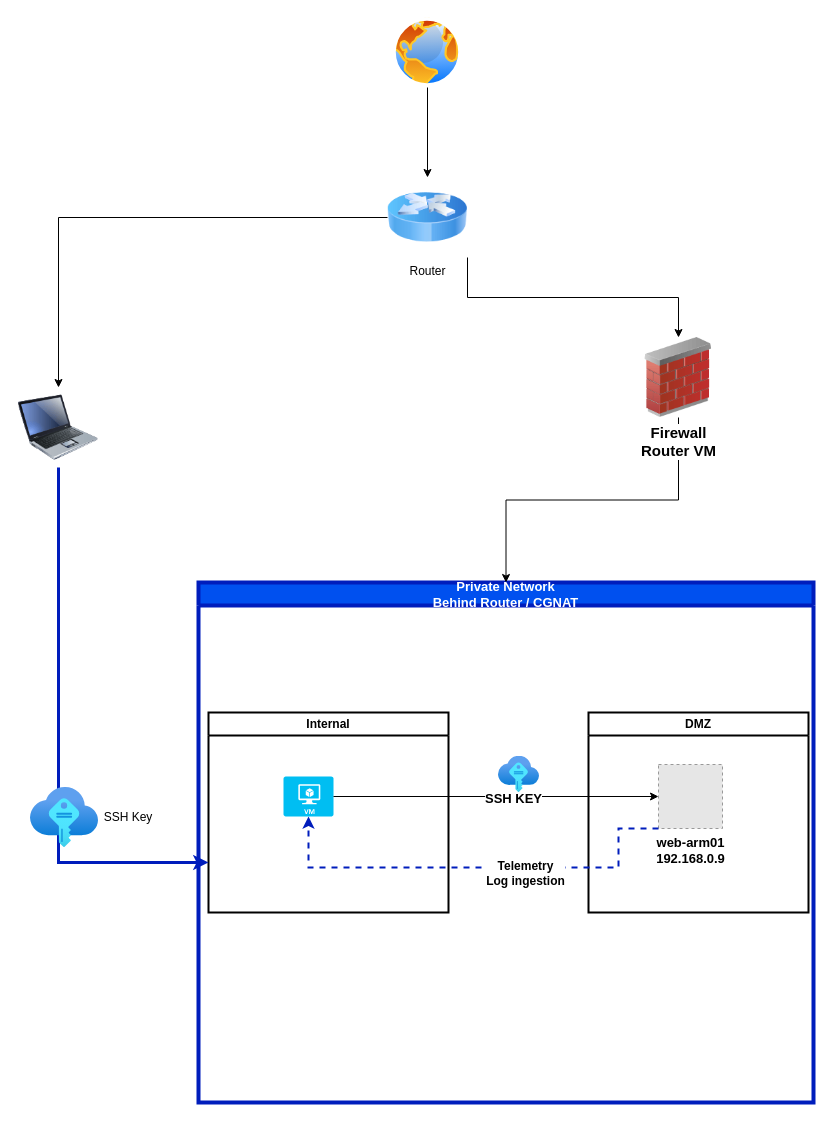
The diagram is 833 pixels wide and 1121 high, and some of its shapes have lost their labels. Grey dashed boxes stand in for pictures. The centre of each missing label's shape, as x and y in pixels:
Internet: (x=427, y=52)
Safeguard Host 192.268.0.7: (x=58, y=427)
soc-core04 192.168.0.5: (x=308, y=796)
